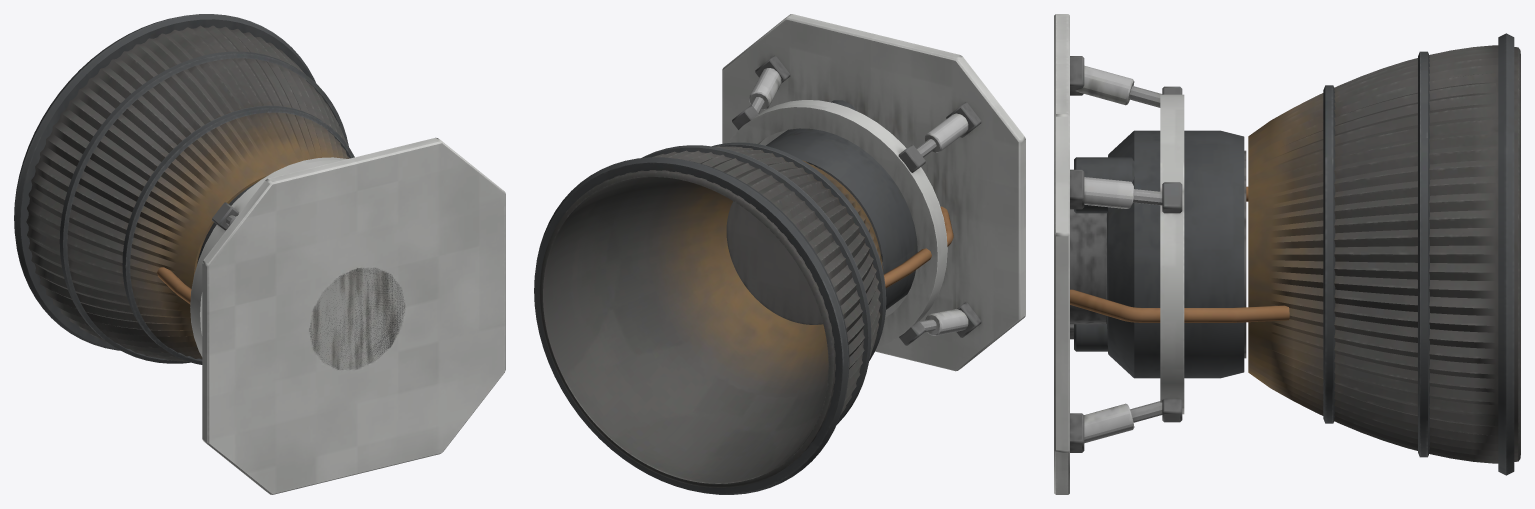
The model's file is bell-XL.glb.
3 views of the same model, side by side, from view 1: azimuth 30°, elevation 25°; view 2: azimuth 150°, elevation 25°; view 3: azimuth 270°, elevation 25° (orthographic). The views are drawn at different scales.
Parts seen in each view (by area): view 1: bell-XL; view 2: bell-XL; view 3: bell-XL.
Boxes of the visible parts, x1,y1,x2,y2 form: bell-XL: [14, 14, 505, 494]; bell-XL: [534, 14, 1025, 494]; bell-XL: [1054, 14, 1520, 494].
Size of the model in its own units: 15.47 by 15.47 by 16.32.
1 material, 1 textured.
